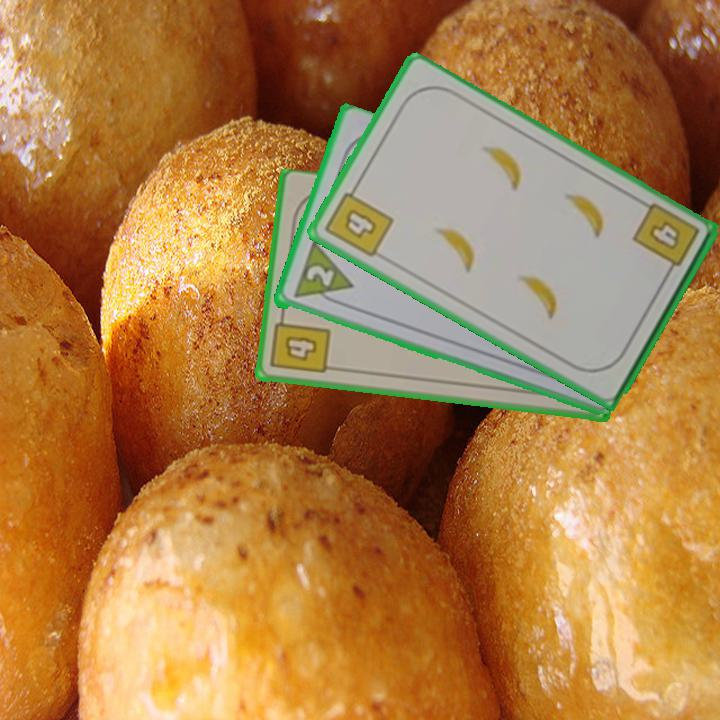2p: (301, 261, 337, 290)
4b: (321, 180, 396, 261), (628, 199, 702, 280), (267, 309, 333, 377)
